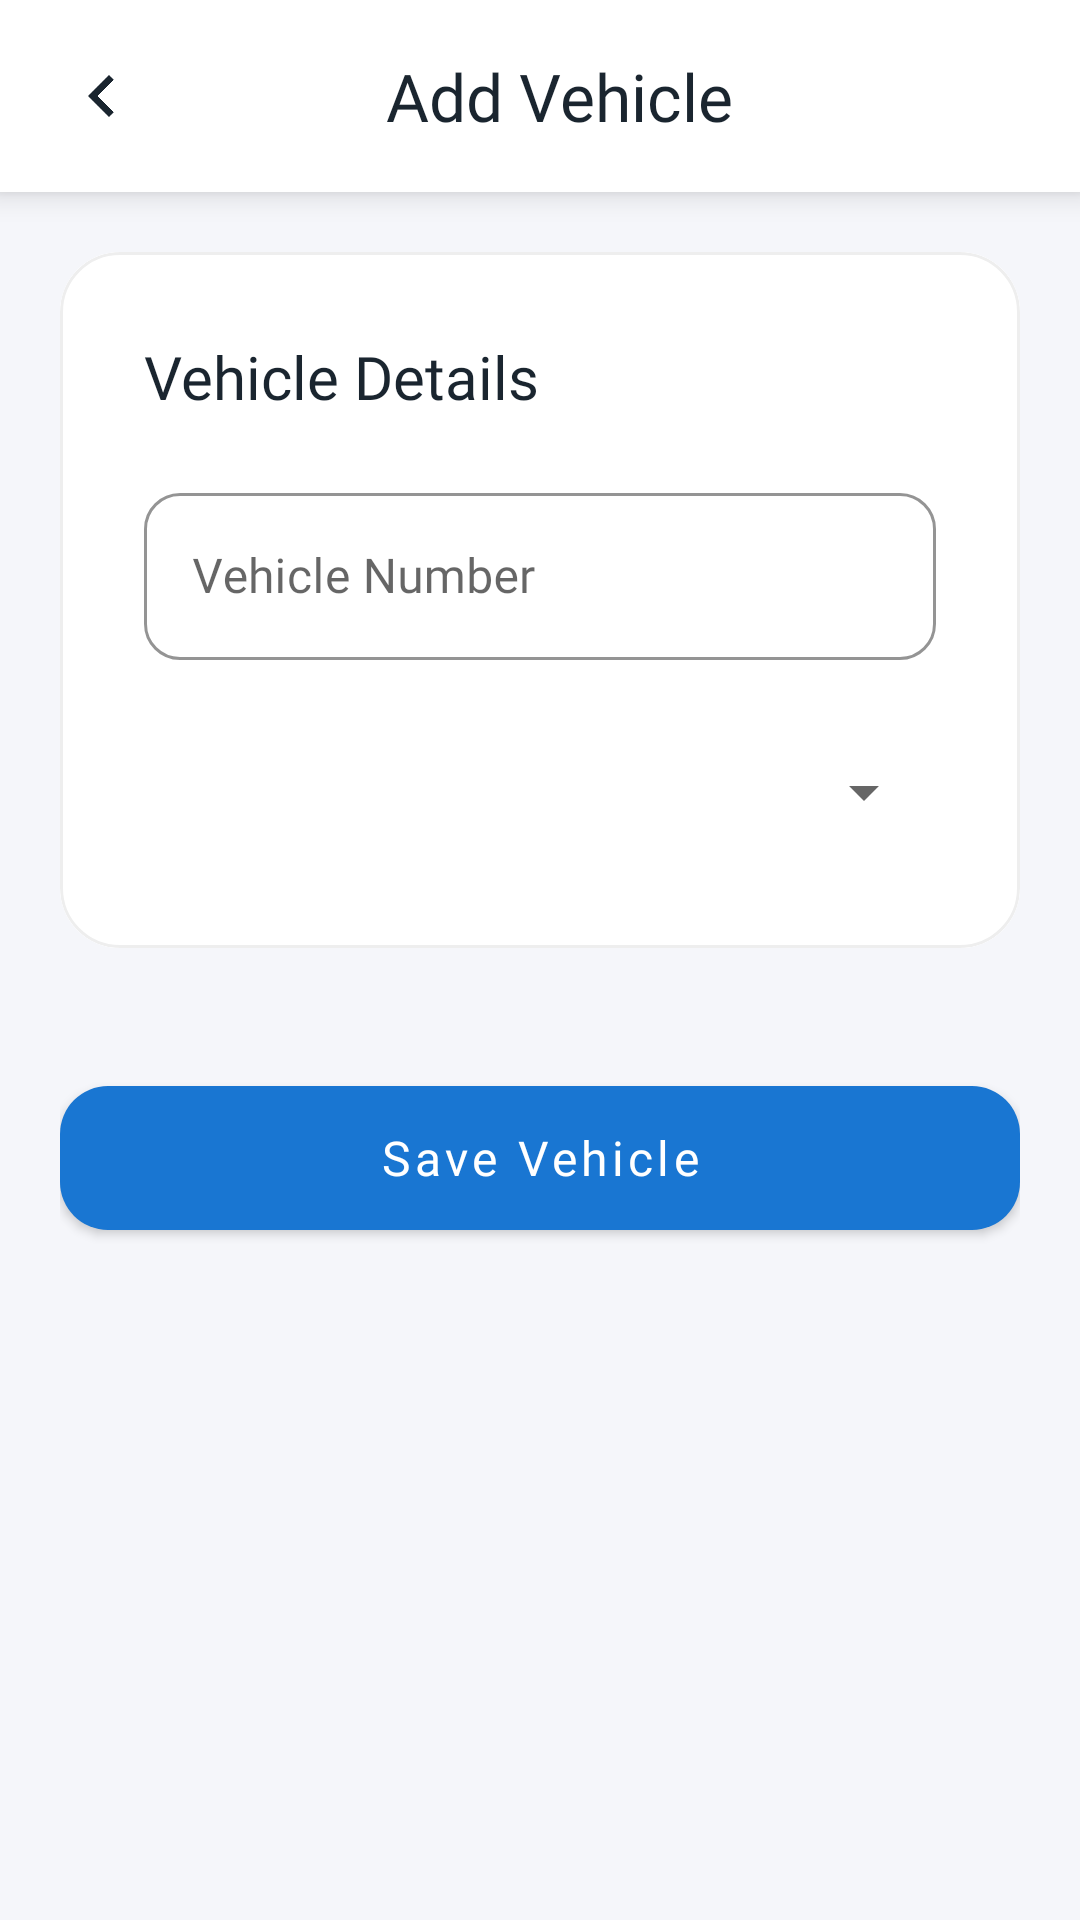

Icon bounding boxes for this 1080px x 1920px phone screenshot, format (x1, y1, x2, y2):
Back: (88, 75, 114, 117)
